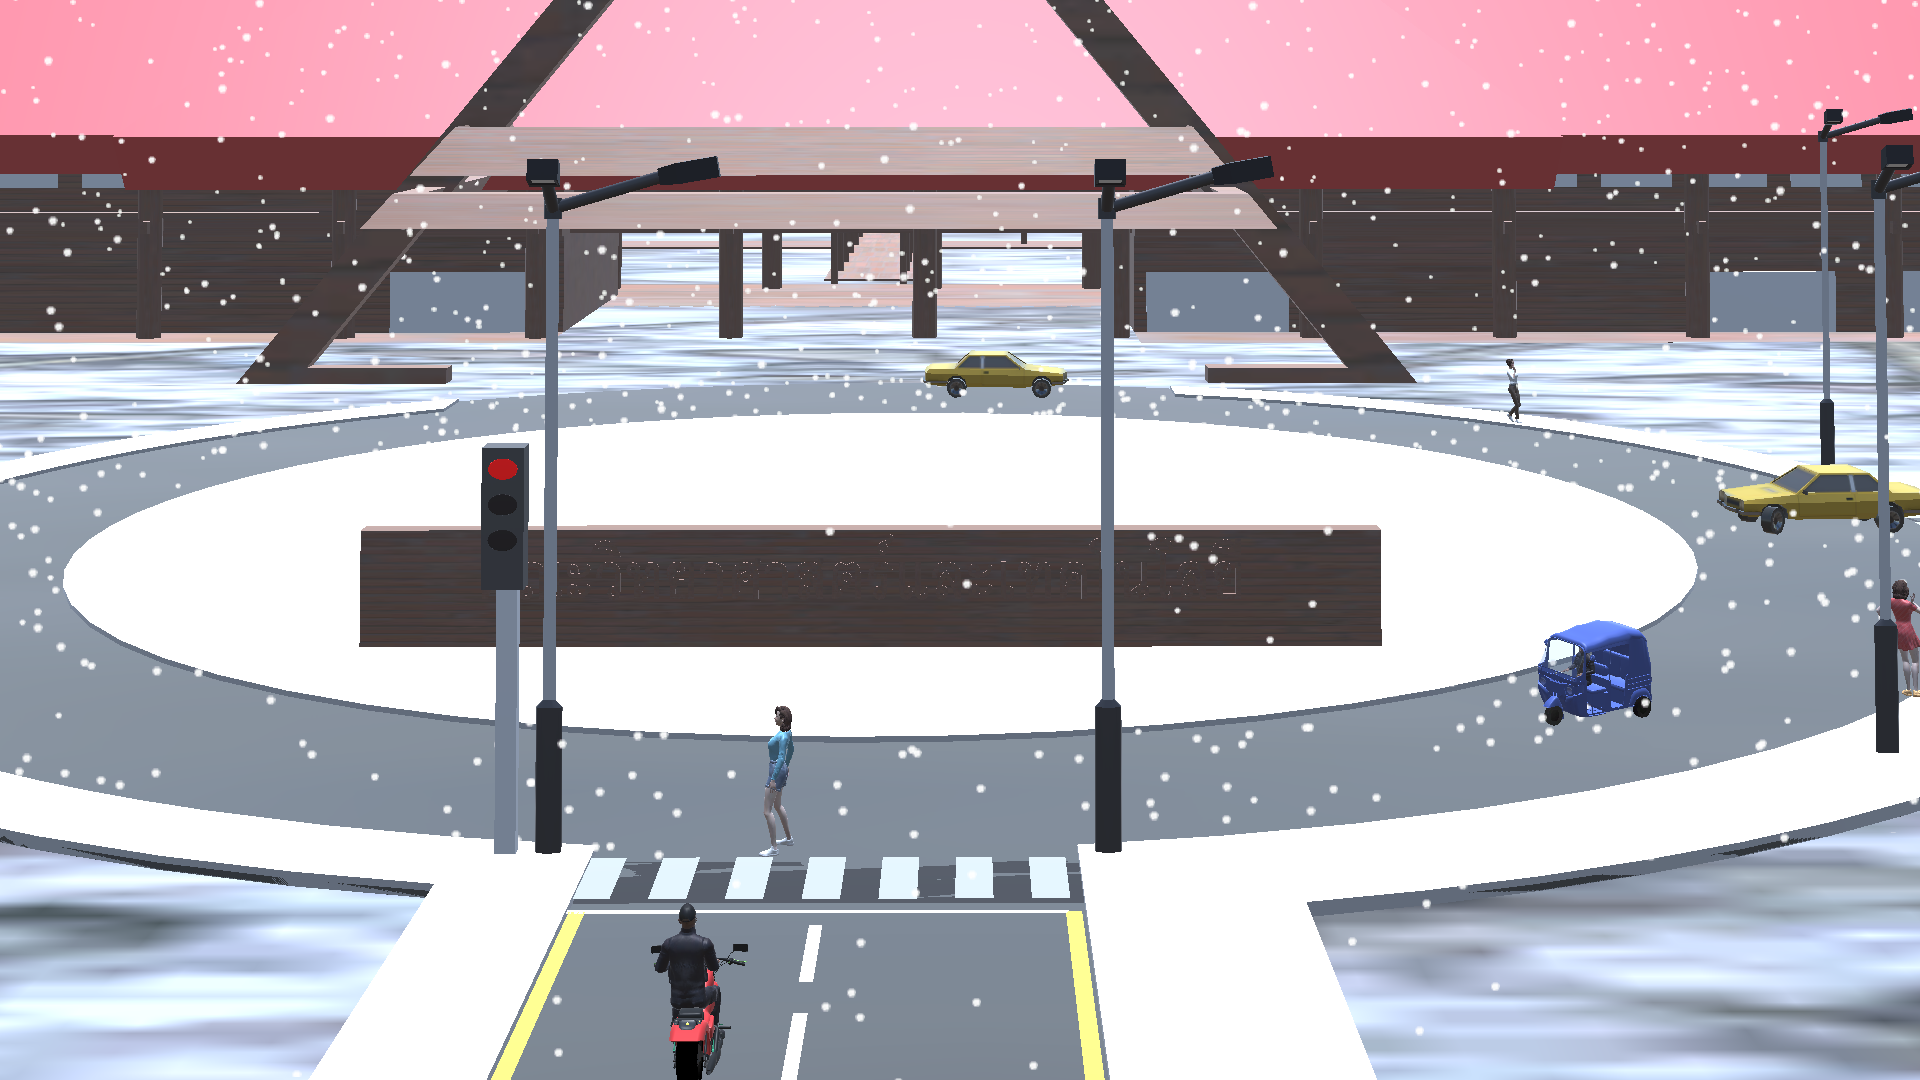pedestrian: (754, 696, 806, 858), (1887, 581, 1920, 693), (1498, 358, 1539, 422)
